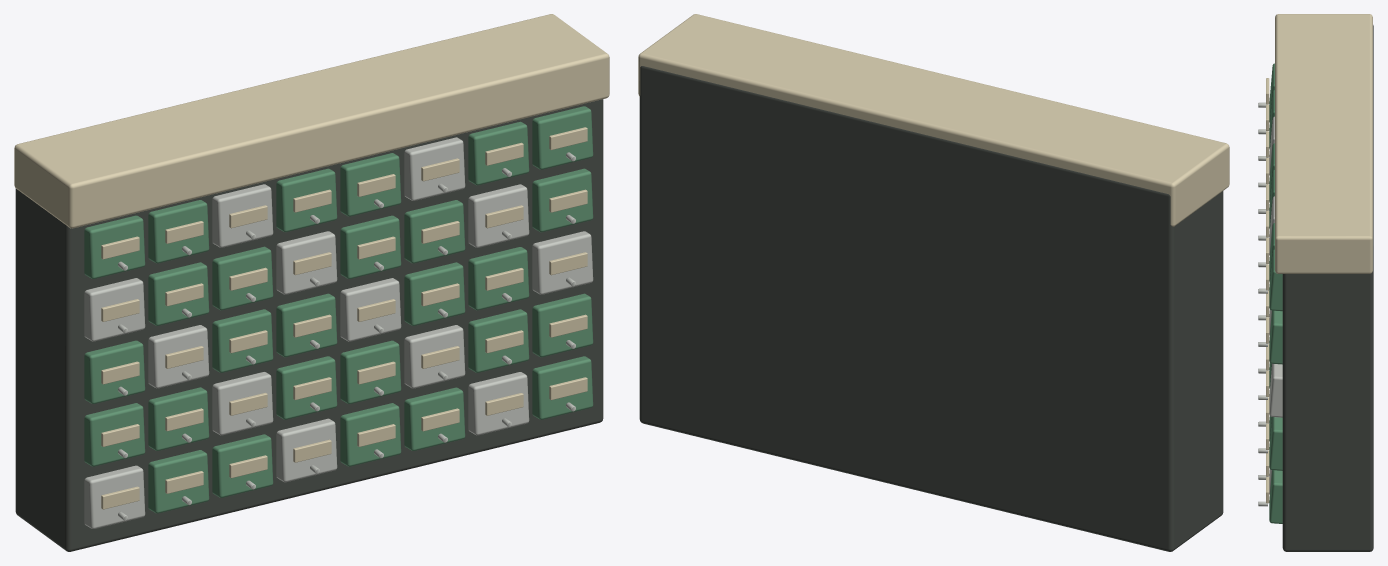
The model's file is miller_fastener_bins.glb.
3 views of the same model, side by side, from view 1: azimuth 30°, elevation 25°; view 2: azimuth 150°, elevation 25°; view 3: azimuth 270°, elevation 25° (orthographic). The views are drawn at different scales.
Parts seen in each view (by area): view 1: miller_fastener_bins_miller_aged_cream_enamel_pbr, miller_fastener_bins_miller_forest_enamel_pbr, miller_fastener_bins_miller_blackened_steel_pbr, miller_fastener_bins_miller_galvanized_steel_pbr; view 2: miller_fastener_bins_miller_blackened_steel_pbr, miller_fastener_bins_miller_aged_cream_enamel_pbr; view 3: miller_fastener_bins_miller_aged_cream_enamel_pbr, miller_fastener_bins_miller_blackened_steel_pbr, miller_fastener_bins_miller_forest_enamel_pbr, miller_fastener_bins_miller_galvanized_steel_pbr.
Boxes of the visible parts, <box> form: miller_fastener_bins_miller_aged_cream_enamel_pbr: <box>14,14,609,509</box>; miller_fastener_bins_miller_forest_enamel_pbr: <box>84,106,593,513</box>; miller_fastener_bins_miller_blackened_steel_pbr: <box>15,99,603,551</box>; miller_fastener_bins_miller_galvanized_steel_pbr: <box>84,137,593,528</box>; miller_fastener_bins_miller_blackened_steel_pbr: <box>639,66,1223,551</box>; miller_fastener_bins_miller_aged_cream_enamel_pbr: <box>638,14,1229,226</box>; miller_fastener_bins_miller_aged_cream_enamel_pbr: <box>1266,14,1372,503</box>; miller_fastener_bins_miller_blackened_steel_pbr: <box>1282,25,1373,551</box>; miller_fastener_bins_miller_forest_enamel_pbr: <box>1269,63,1282,523</box>; miller_fastener_bins_miller_galvanized_steel_pbr: <box>1258,102,1282,506</box>.
Size of the model in its own units: 3.8 by 2.5 by 0.825.
